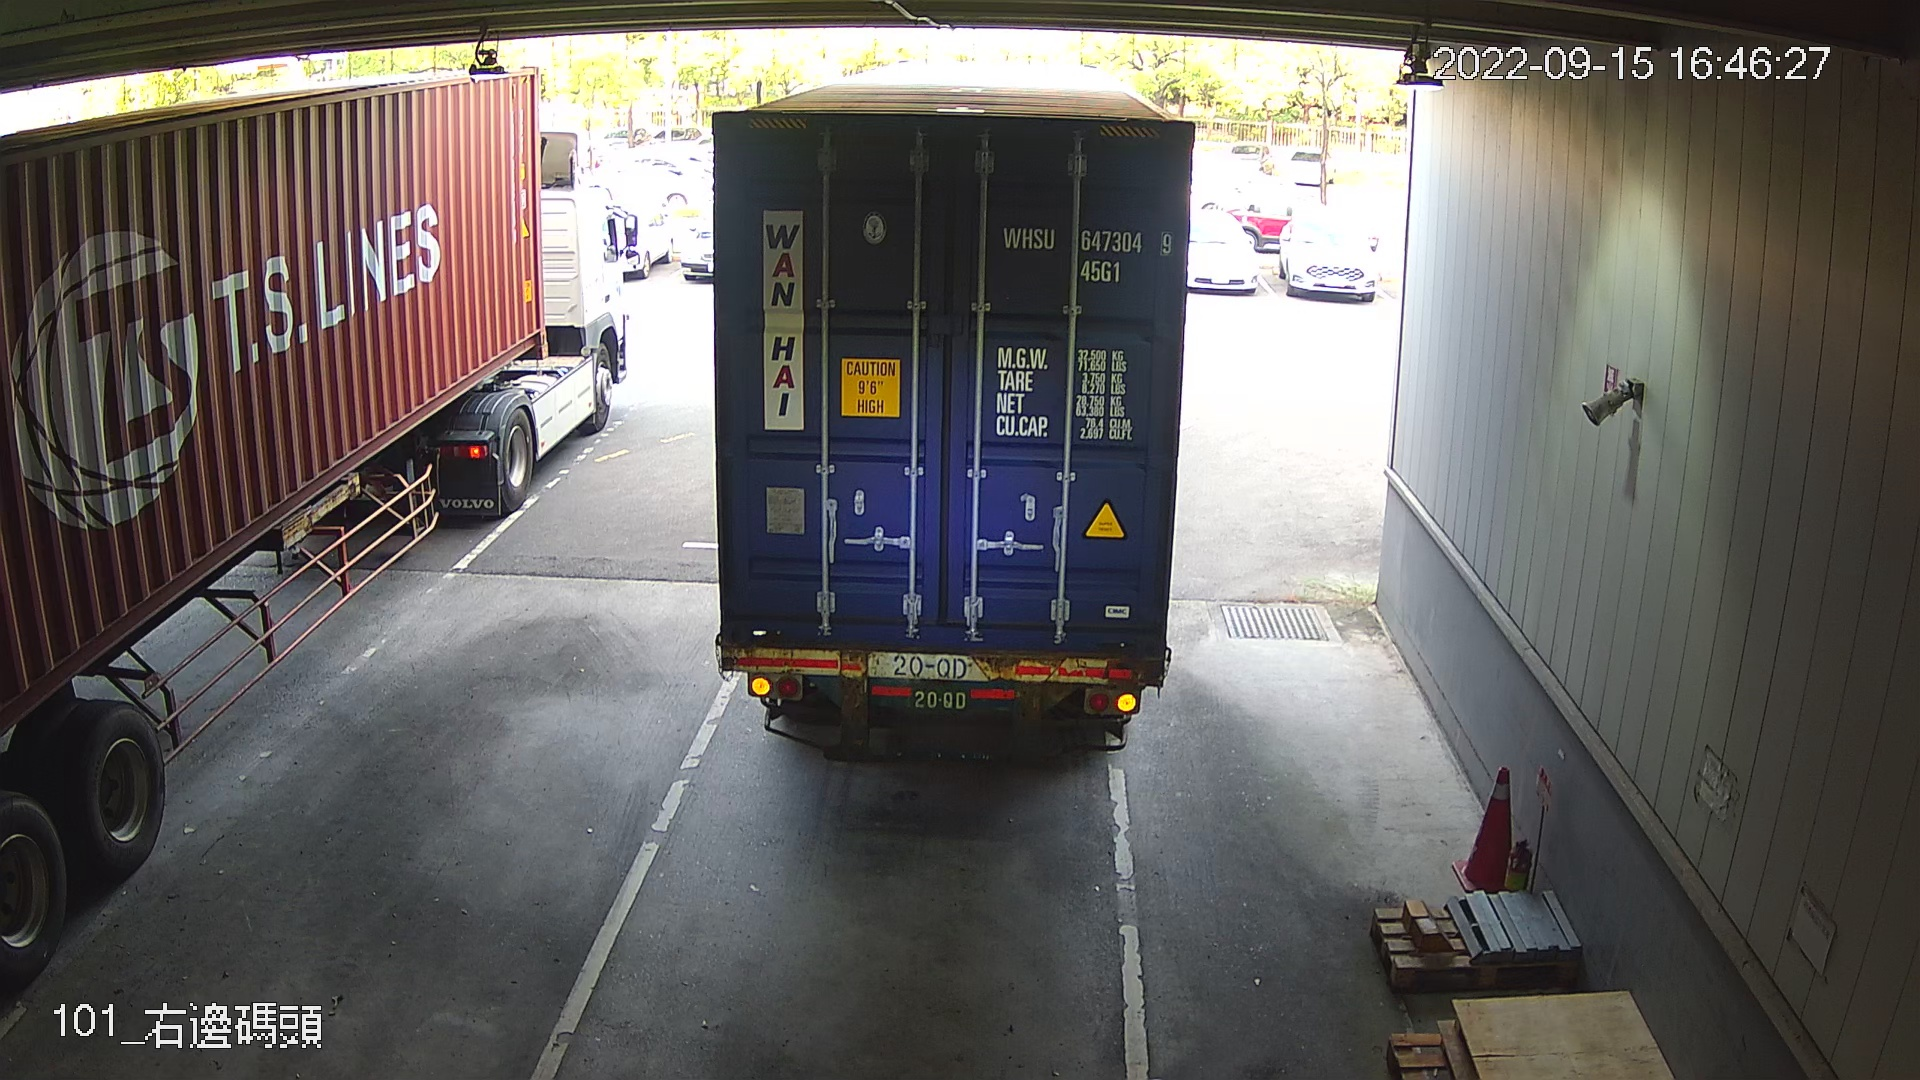container: (996, 219, 1179, 289)
